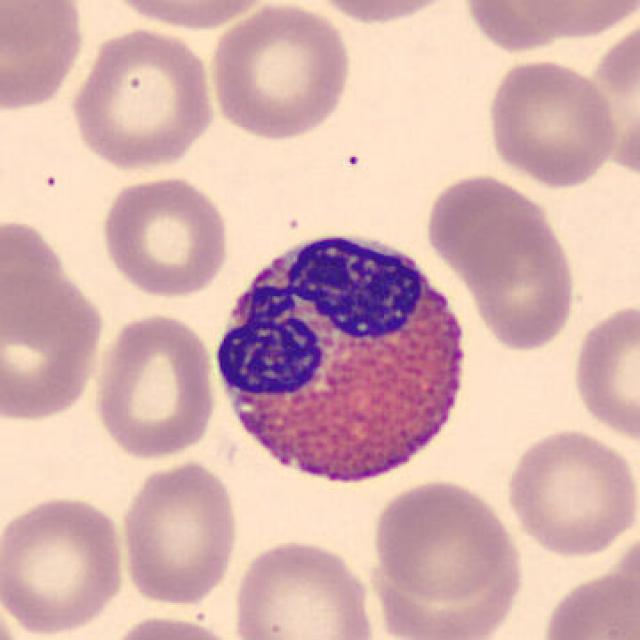Eosinophil: (204, 213, 483, 501)
RBC: (65, 23, 218, 173), (204, 2, 356, 143), (89, 308, 220, 462), (368, 476, 521, 605), (0, 490, 130, 637), (117, 457, 242, 608), (482, 54, 620, 188), (502, 425, 638, 559), (462, 201, 580, 353), (0, 259, 108, 424), (96, 173, 233, 300), (229, 536, 379, 640), (421, 171, 546, 280), (0, 214, 72, 360), (569, 298, 638, 446), (0, 0, 87, 115), (536, 567, 638, 640), (461, 0, 582, 55), (97, 0, 277, 33), (514, 0, 638, 41), (304, 0, 462, 26), (102, 612, 244, 640)
